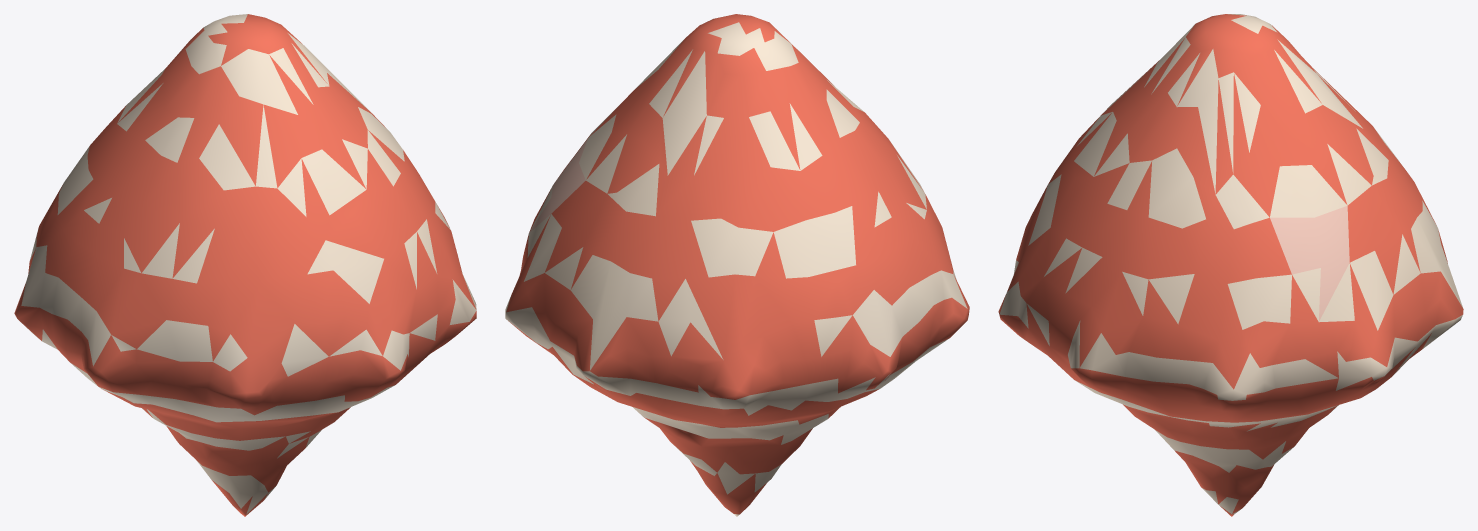
Rendered from shore_player_shell_lod1.glb.
The picture shows the model from 3 angles, left to right: view 1: azimuth 30°, elevation 25°; view 2: azimuth 150°, elevation 25°; view 3: azimuth 270°, elevation 25°; orthographic projection.
Parts seen in each view (by area): view 1: shore_player_shell.001; view 2: shore_player_shell.001; view 3: shore_player_shell.001.
Boxes of the visible parts, bbox=[...] form: shore_player_shell.001: bbox=[14, 14, 476, 516]; shore_player_shell.001: bbox=[505, 14, 969, 516]; shore_player_shell.001: bbox=[998, 14, 1463, 516].
Size of the model in its own units: 1.22 by 1.45 by 1.23.
